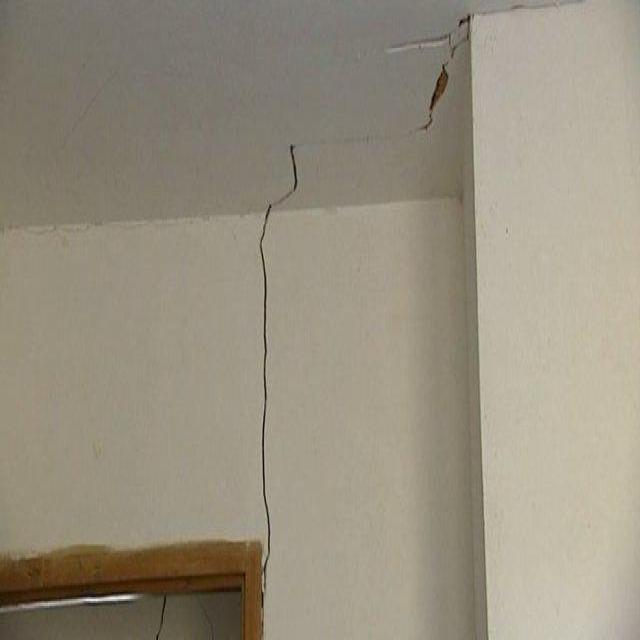crack: (258, 124, 424, 594), (386, 31, 452, 54), (427, 62, 452, 120)
